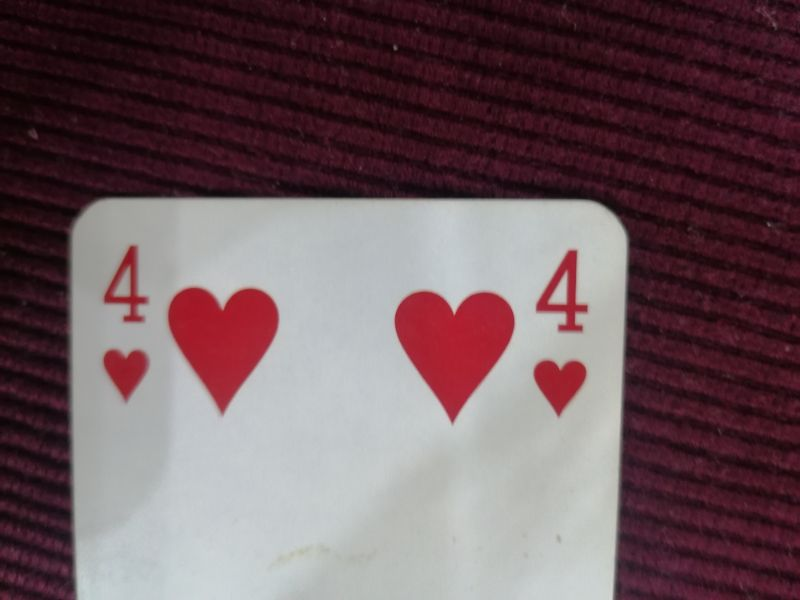4h: (528, 240, 591, 427), (96, 242, 157, 409)
